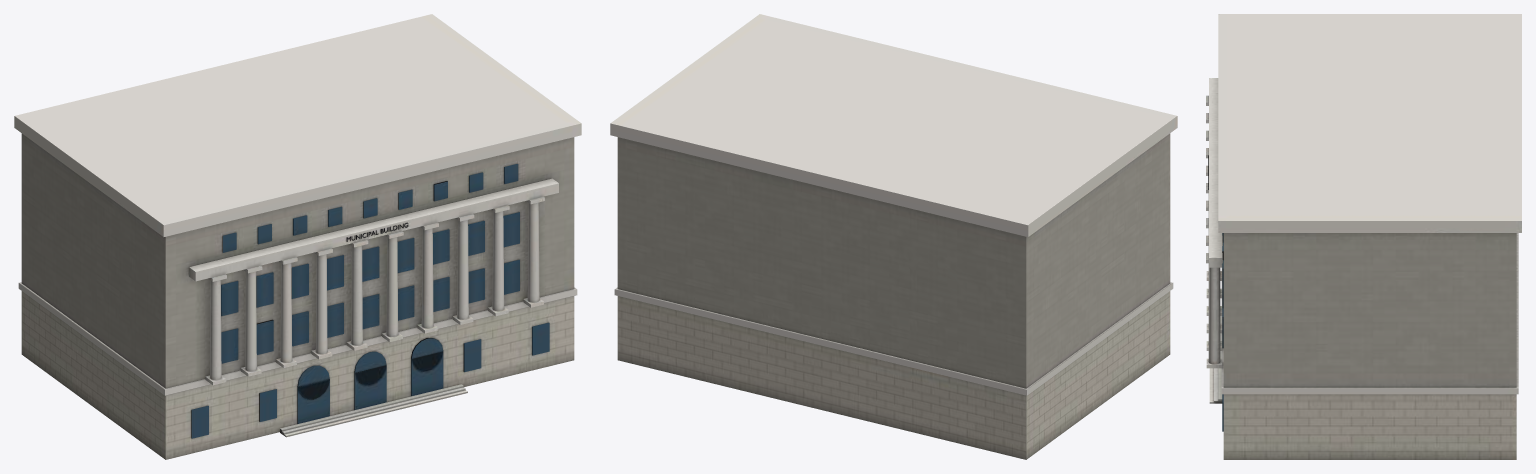
The model's file is ayuntamiento_hfd.glb.
3 views of the same model, side by side, from view 1: azimuth 30°, elevation 25°; view 2: azimuth 150°, elevation 25°; view 3: azimuth 270°, elevation 25° (orthographic).
Parts seen in each view (by area): view 1: ayuntamiento_hfd; view 2: ayuntamiento_hfd; view 3: ayuntamiento_hfd.
Part boxes in pixels (left/top/right/bottom): ayuntamiento_hfd: left=14, top=14, right=581, bottom=459; ayuntamiento_hfd: left=610, top=14, right=1177, bottom=459; ayuntamiento_hfd: left=1206, top=14, right=1521, bottom=459.
Bounding box in the file's own units: 36.8 × 20 × 23.73.
Materials: 1 (1 with a texture image).
